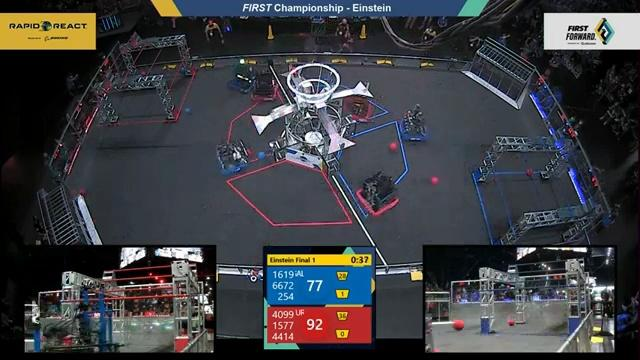robot: (353, 172, 406, 213), (247, 52, 280, 107), (213, 133, 253, 178), (395, 101, 435, 145), (224, 50, 261, 97), (345, 79, 376, 125)
